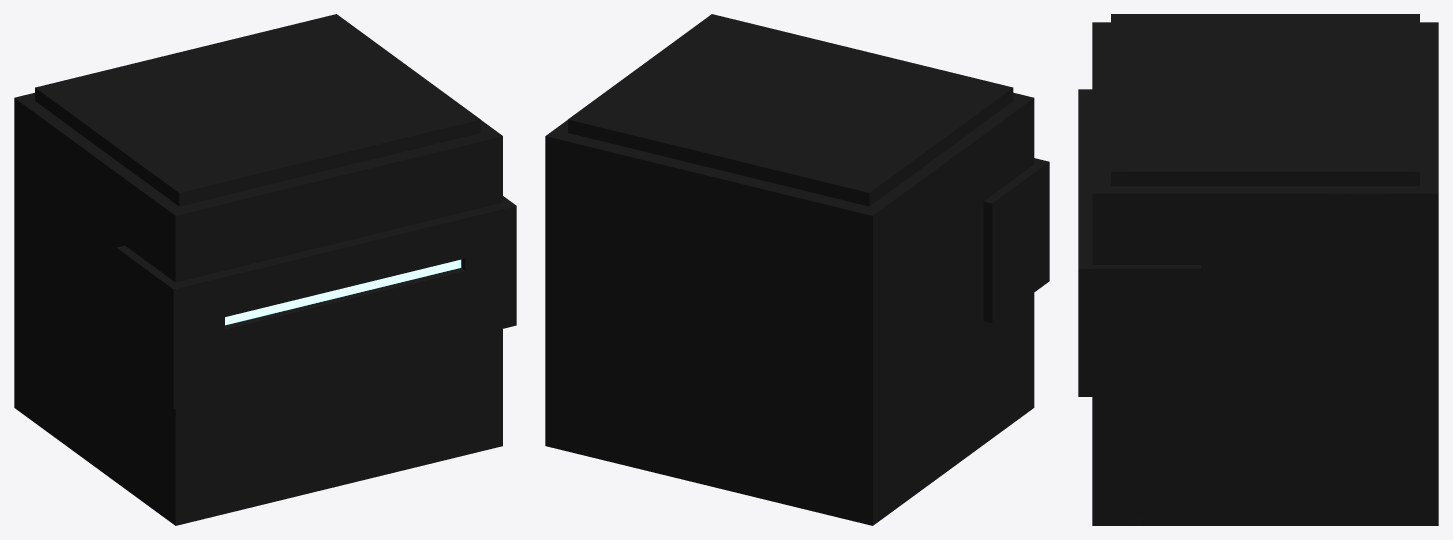
File: punk_helmet.glb
The picture shows the model from 3 angles, left to right: view 1: azimuth 30°, elevation 25°; view 2: azimuth 150°, elevation 25°; view 3: azimuth 270°, elevation 25°; orthographic projection. The views are drawn at different scales.
Parts seen in each view (by area): view 1: punk_helmet.001; view 2: punk_helmet.001; view 3: punk_helmet.001.
Part boxes in pixels (bbox=[...]): punk_helmet.001: bbox=[14, 14, 516, 525]; punk_helmet.001: bbox=[545, 14, 1049, 525]; punk_helmet.001: bbox=[1078, 14, 1438, 525].
Bounding box in the file's own units: 3.3 × 2.97 × 2.8.
1 material, 1 textured.
